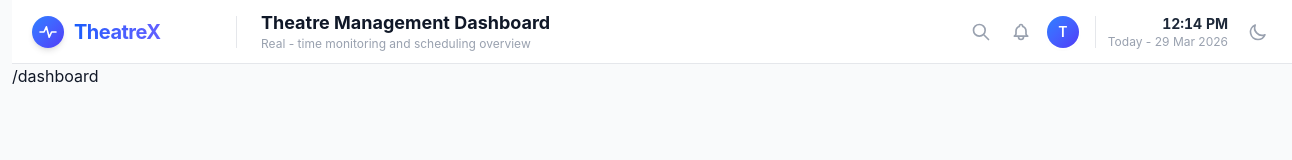
Test case: Header Search › opens search input when search button is clicked
Expected: the field with placeholder "Search pages..." is not shown
What coordinates should you click on to do the following:
click the button named "Search"
I would click on:
 (981, 32)
Its box is 963,14 -> 999,50.
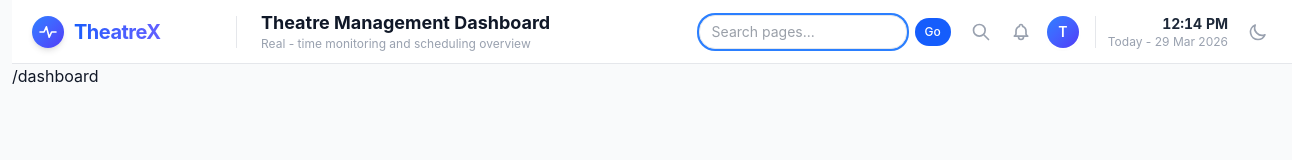
Expected: the field with placeholder "Search pages..." is shown, 699,14 -> 907,48
